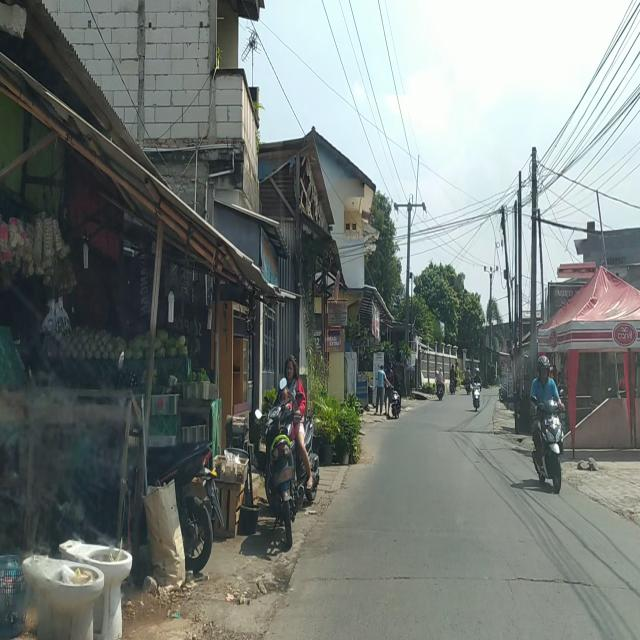Sewer Cover: (302, 574, 590, 593)
